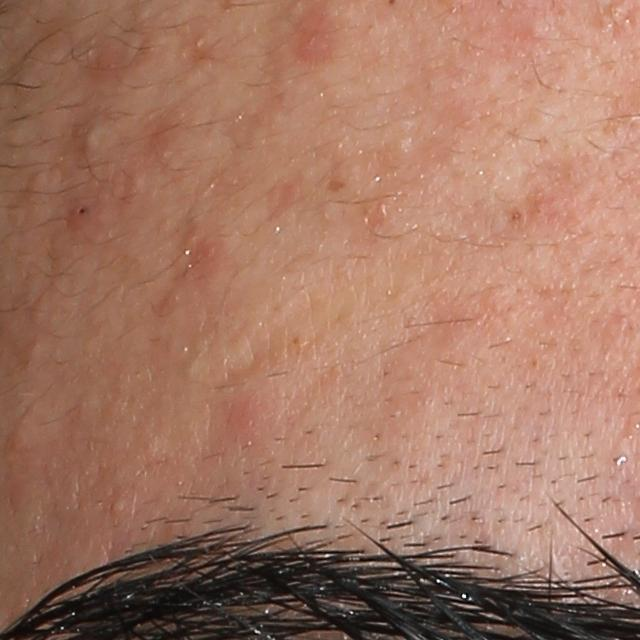comedo: (79, 115, 108, 155), (524, 16, 548, 42), (392, 132, 417, 156), (24, 339, 44, 358), (508, 207, 525, 224), (109, 498, 126, 514)
